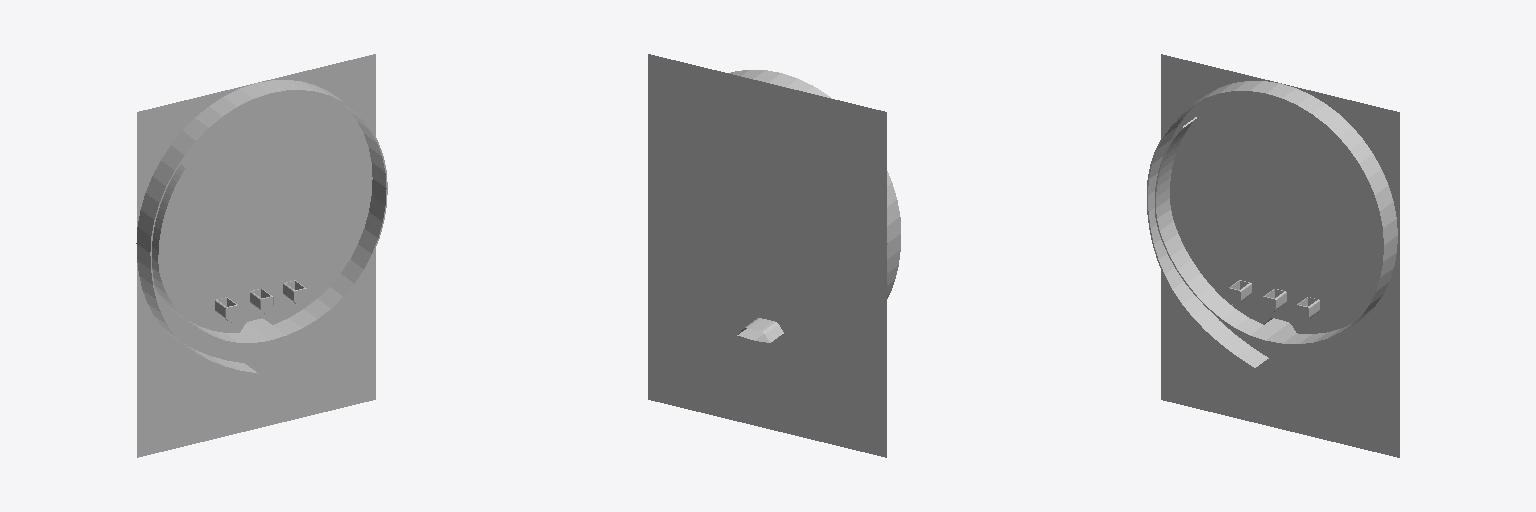
File: mock01.obj
3 views of the same model, side by side, from view 1: azimuth 30°, elevation 25°; view 2: azimuth 150°, elevation 25°; view 3: azimuth 330°, elevation 25° (orthographic).
Parts seen in each view (by area): view 1: ベジエ円.002_Mesh.004, ベジエ円.001_Mesh.002; view 2: ベジエ円.002_Mesh.004, ベジエ円.001_Mesh.002; view 3: ベジエ円.002_Mesh.004, ベジエ円.001_Mesh.002.
Boxes of the visible parts, <box> form: ベジエ円.002_Mesh.004: <box>137,54,375,457</box>; ベジエ円.001_Mesh.002: <box>136,80,387,374</box>; ベジエ円.002_Mesh.004: <box>648,54,886,457</box>; ベジエ円.001_Mesh.002: <box>650,70,900,336</box>; ベジエ円.002_Mesh.004: <box>1161,54,1399,457</box>; ベジエ円.001_Mesh.002: <box>1147,81,1397,369</box>.
Size of the model in its own units: 9.9 by 13.69 by 2.